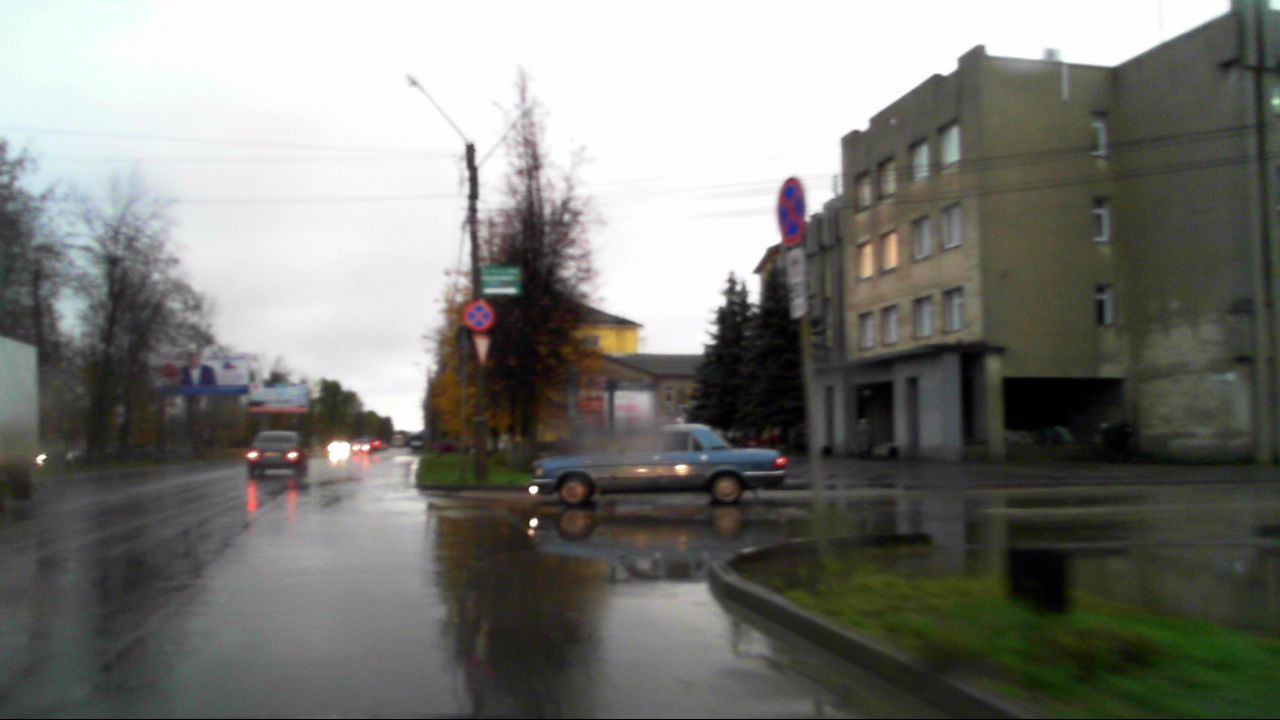No Parking: (778, 177, 803, 245)
